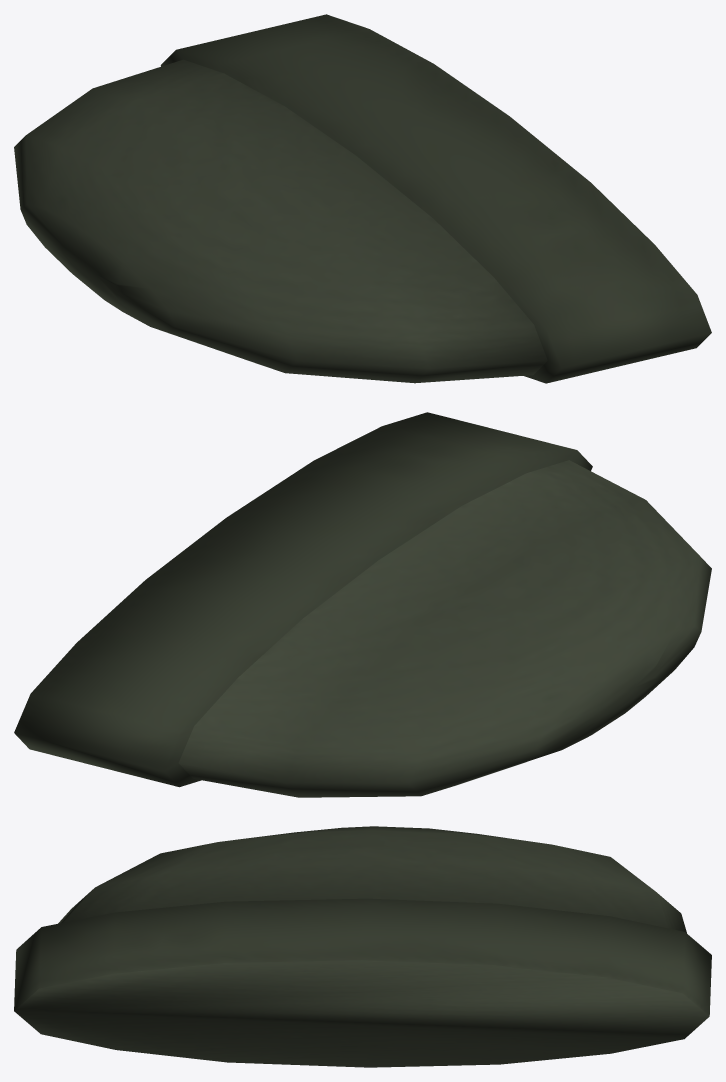
Rendered from BlackWatchCap_WorldItem.fbx.
The picture shows the model from 3 angles, top to bottom: view 1: azimuth 30°, elevation 25°; view 2: azimuth 150°, elevation 25°; view 3: azimuth 270°, elevation 25°; orthographic projection. The views are drawn at different scales.
Parts seen in each view (by area): view 1: Circle; view 2: Circle; view 3: Circle.
Boxes of the visible parts, x1,y1,x2,y2 form: Circle: (14, 14, 711, 383); Circle: (14, 412, 711, 797); Circle: (14, 826, 711, 1067).
Size of the model in its own units: 0.2165 by 0.0637 by 0.3747.
